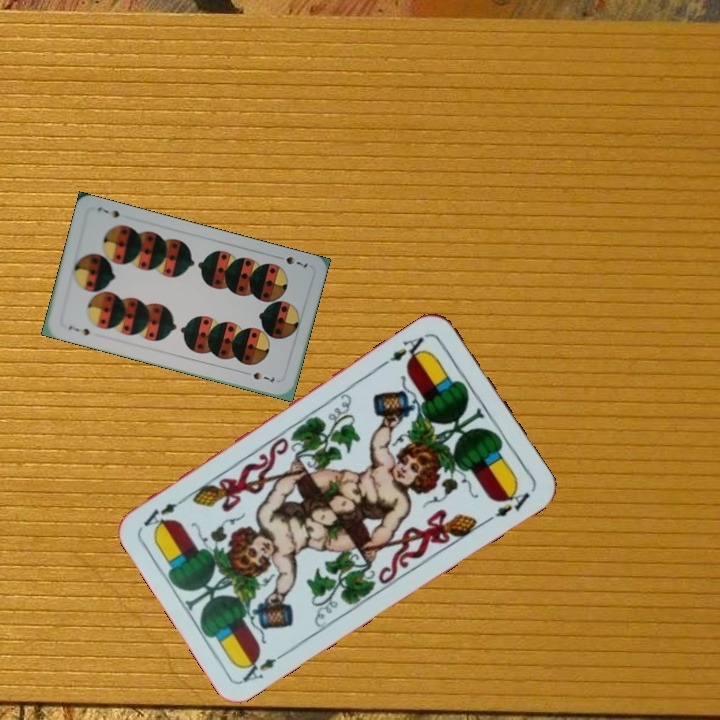EA: (236, 646, 291, 685), (379, 329, 432, 368)
S7: (272, 252, 311, 270), (64, 322, 92, 338)
